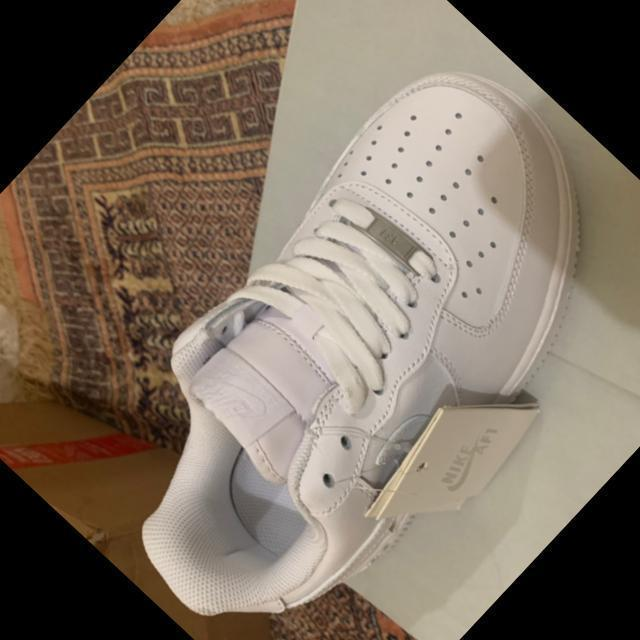nike original air force: (33, 26, 640, 640)
